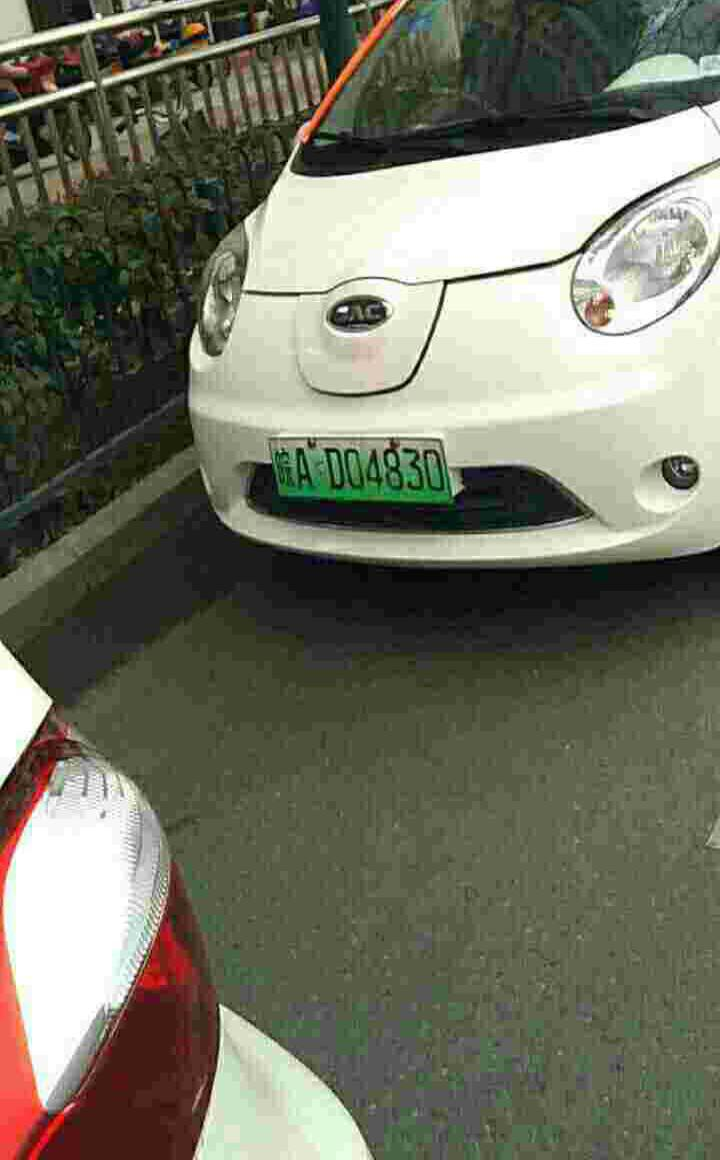car_green: (267, 430, 457, 511)
